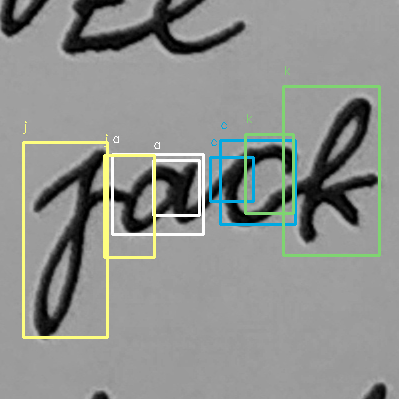a: (115, 154, 202, 237)
c: (217, 139, 303, 231)
j: (21, 143, 111, 341)
k: (291, 94, 382, 245)
